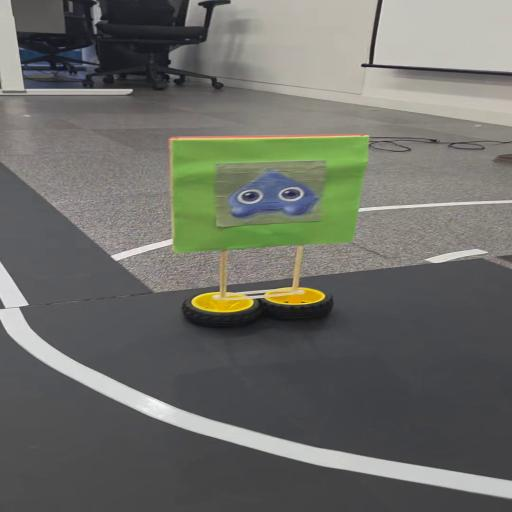Sign_B: (152, 128, 380, 333)
